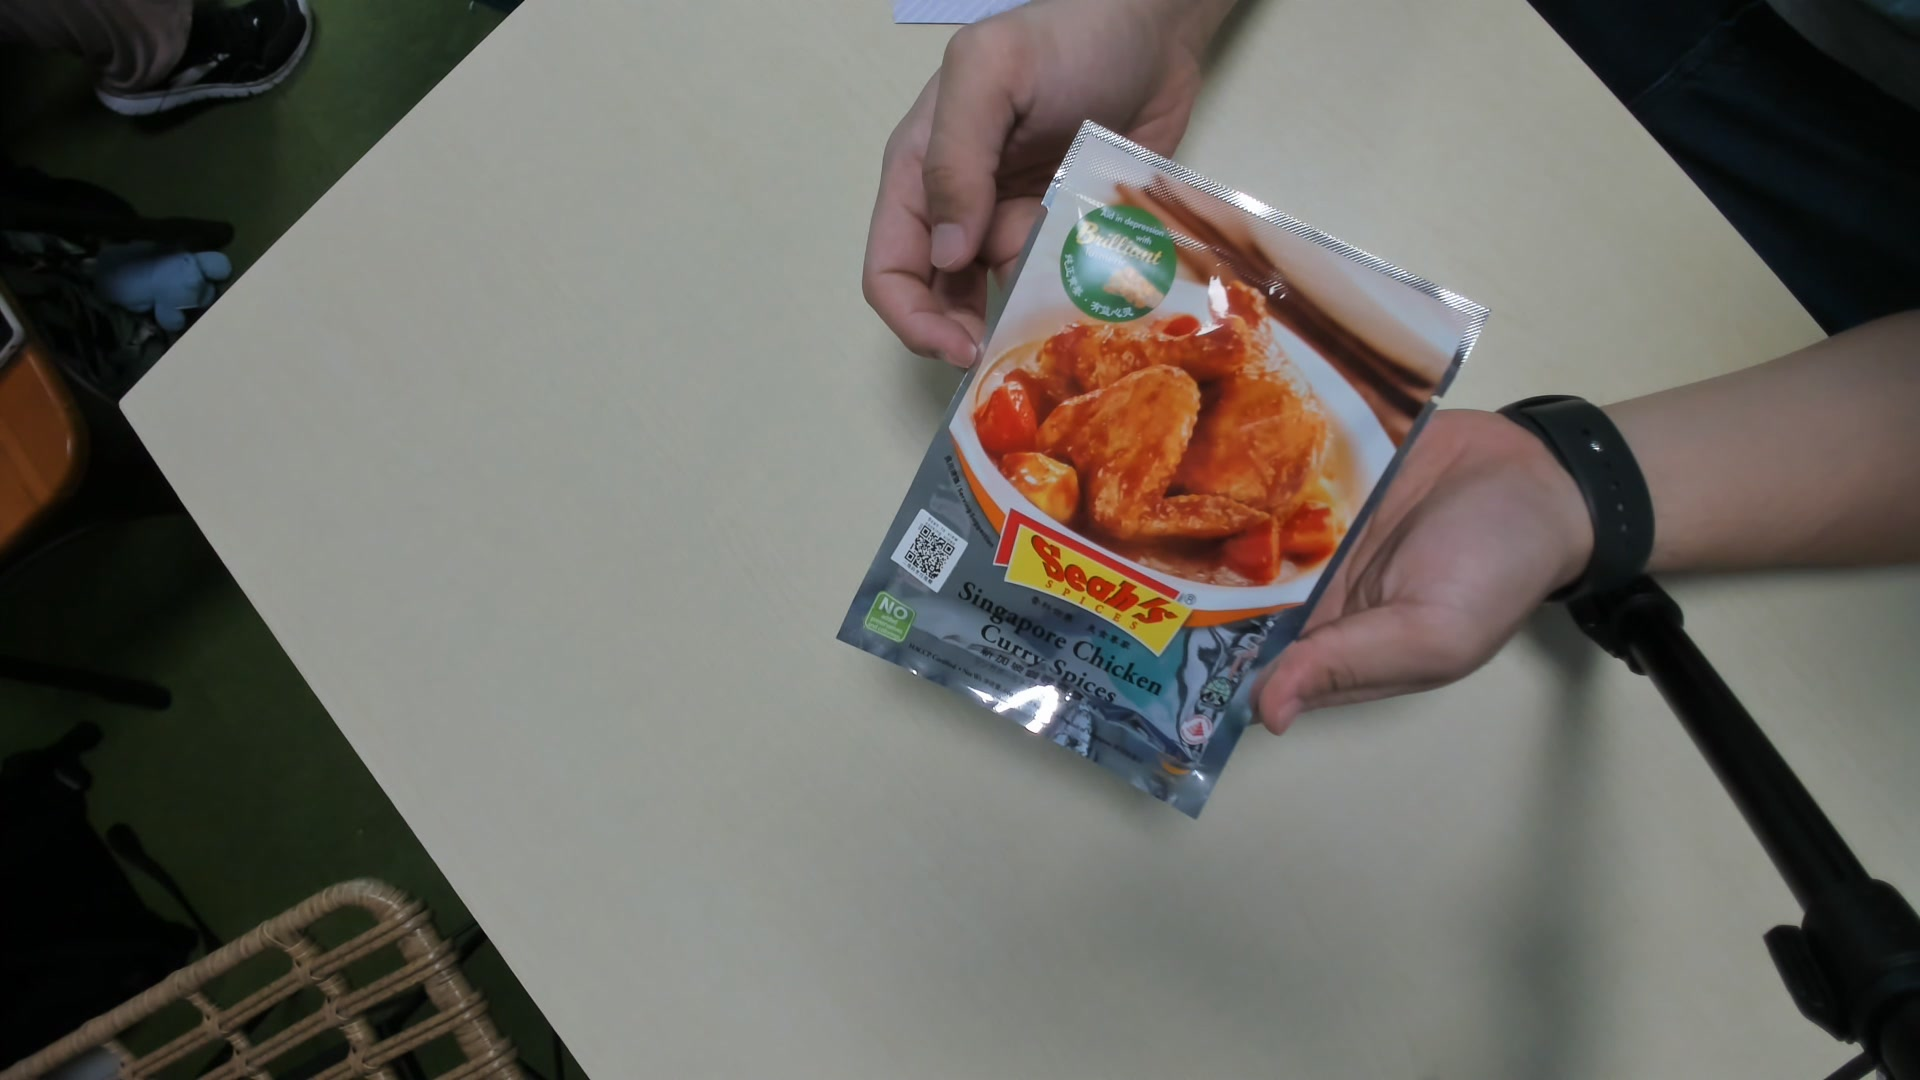CurryPastePowderSauce_0-99g_Halal_Healthy: (843, 125, 1486, 835)
